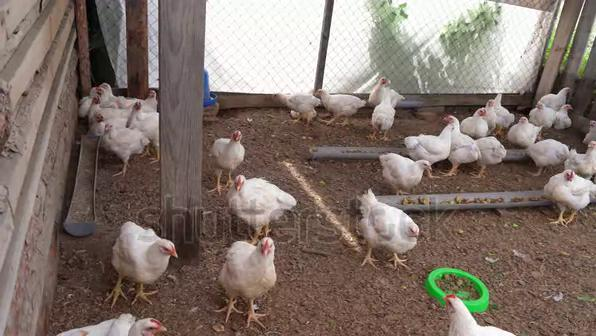Pollos: (354, 184, 422, 251), (112, 220, 179, 282), (226, 173, 296, 226), (221, 233, 278, 295), (443, 113, 478, 175), (543, 169, 594, 210), (102, 122, 150, 163), (317, 86, 366, 122), (379, 152, 434, 184), (209, 129, 246, 169), (524, 137, 571, 167), (270, 90, 317, 119), (372, 75, 401, 103), (372, 103, 395, 137), (464, 105, 490, 135), (530, 100, 556, 128), (511, 116, 537, 141), (556, 103, 578, 131)
